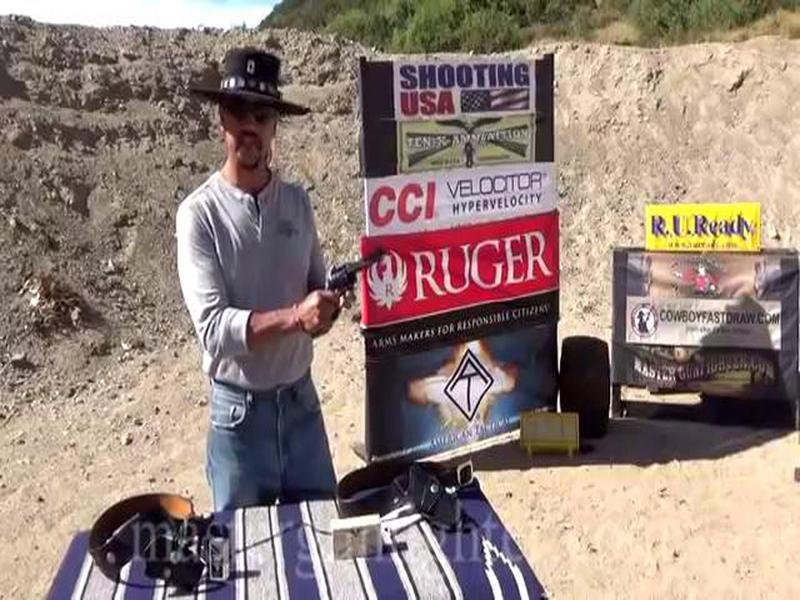Revolver: (318, 244, 398, 324)
